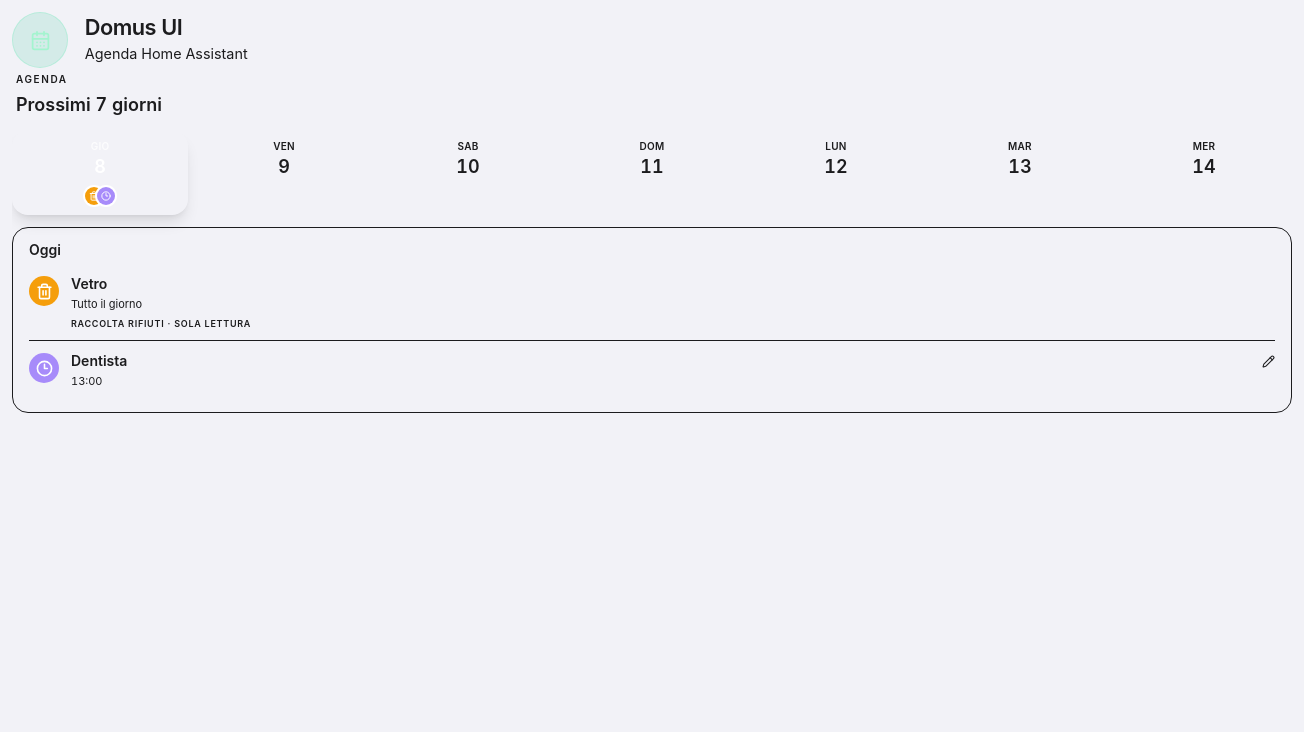
Test case: CalendarControls › opens the edit form for regular events but keeps waste rows read-only
expect the button "Vetro Tutto il giorno Raccolta rifiuti · sola lettura" is disabled: met, box [29,264,1275,340]
Click the button "Dentista 13:00". click: (99, 360)
box: [29,341,1275,400]
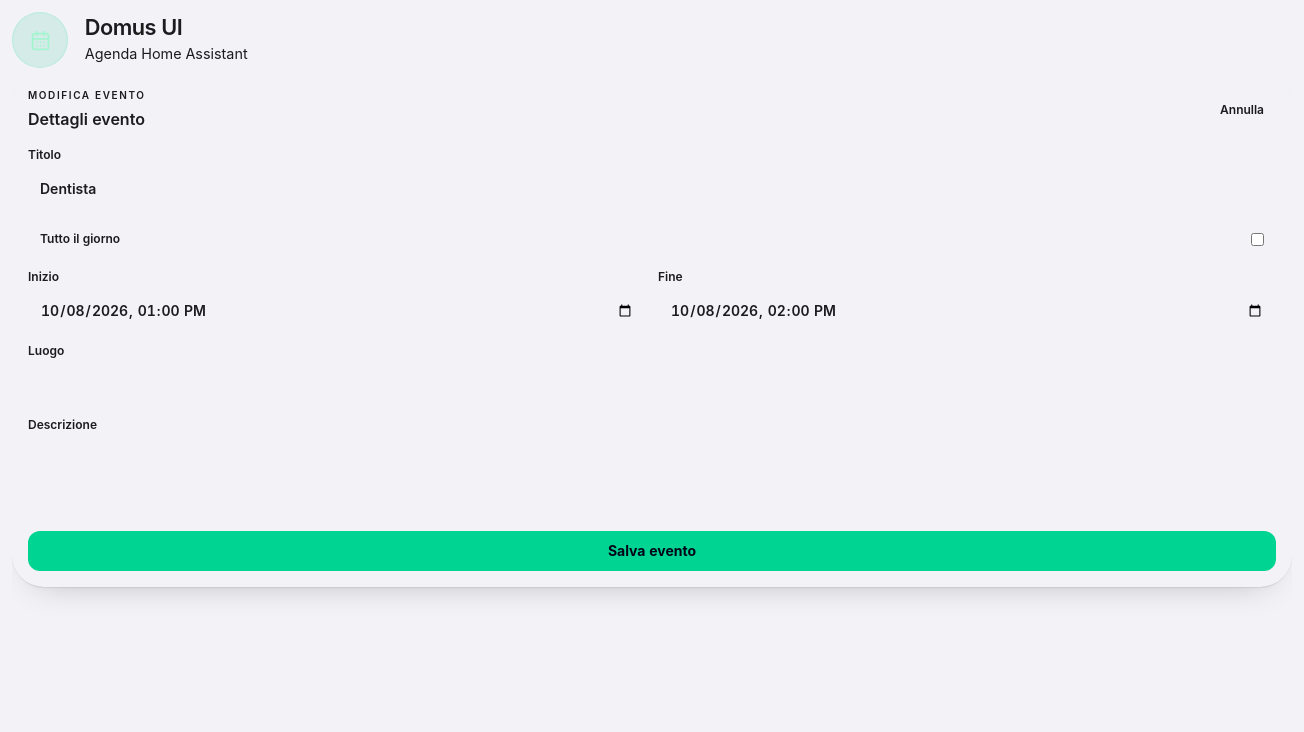
expect the field showing "Dentista" is shown: met, box [28,169,1276,209]
